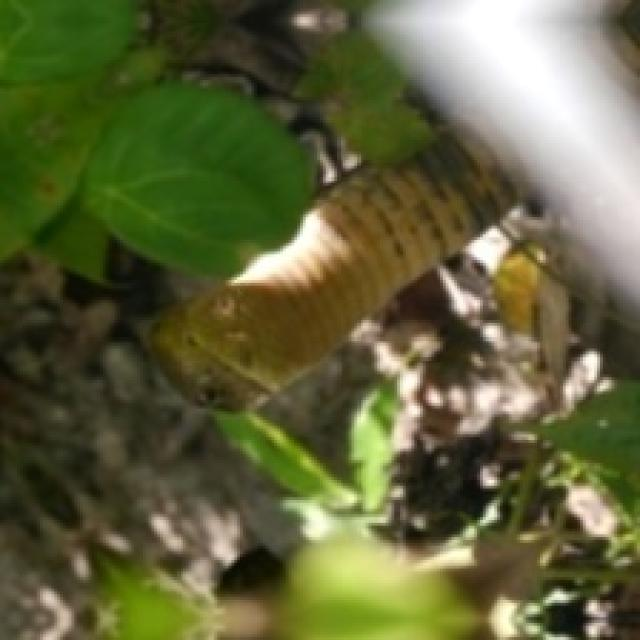king cobra: (151, 0, 637, 406)
